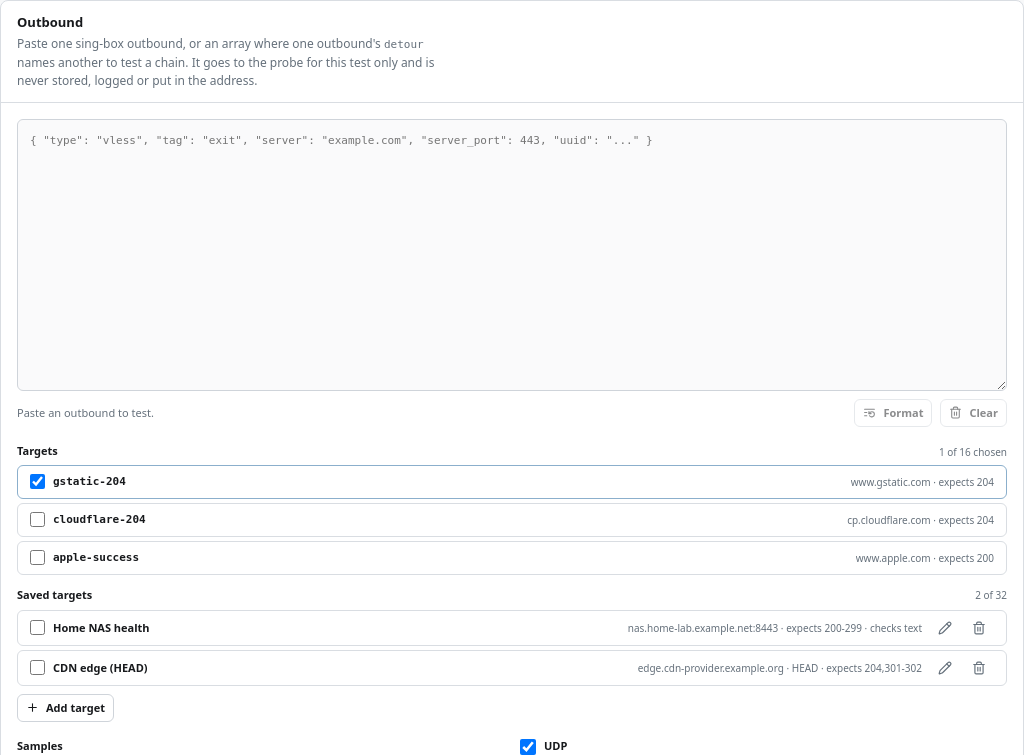
Scenario: saved targets › counts the chosen targets beside the list, and says when there are too many
The width and height of the screenshot is (1024, 755).
Expected: the text "1 of 16 chosen" is shown, [939, 445, 1007, 459]
Click the 4th checkbox. click: click(38, 628)
box: [30, 620, 45, 635]
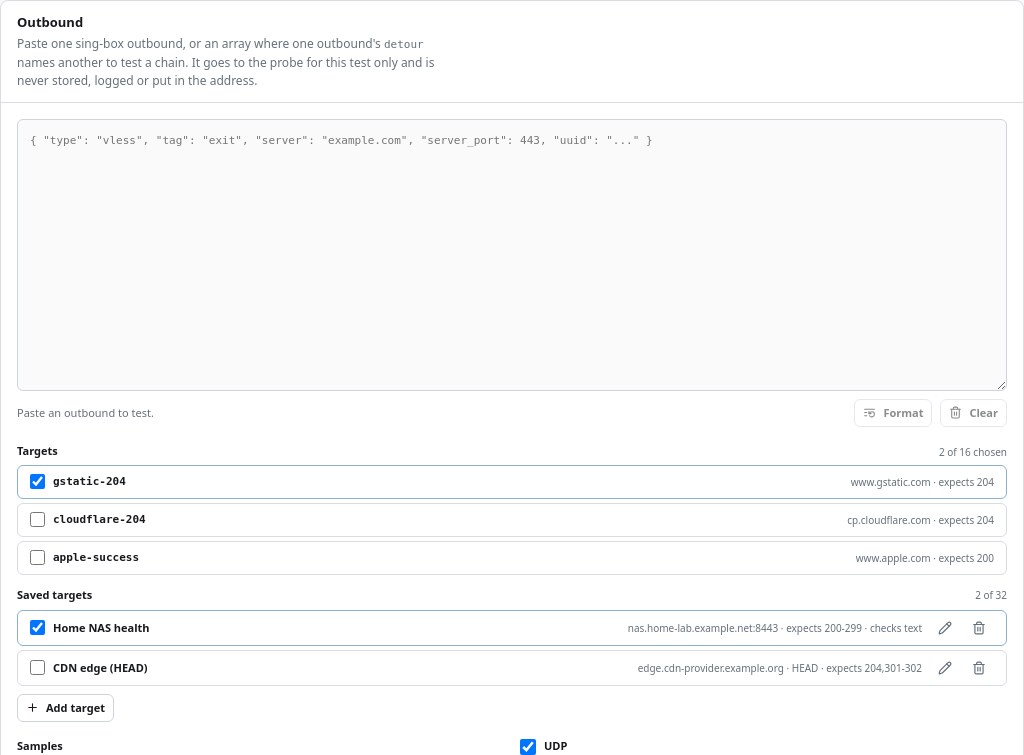
Now the text "2 of 16 chosen" is shown, box [939, 445, 1007, 459]
